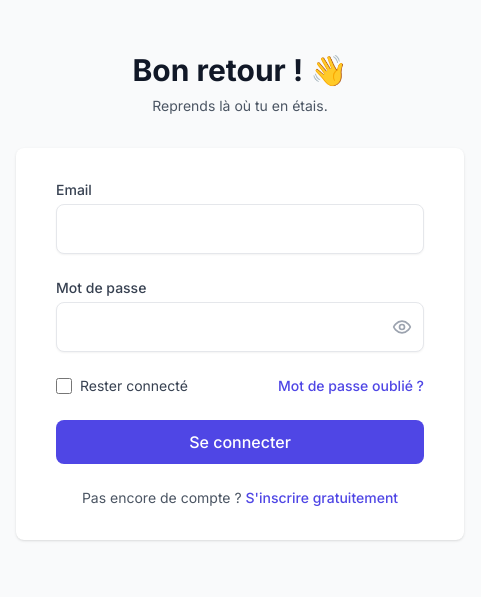
Scenario: LoginPage Integration › Login with invalid credentials › should display French error for invalid credentials
Type "test@example.com" into the field labelled "Email" at point(240, 229), box [56,204,424,254]
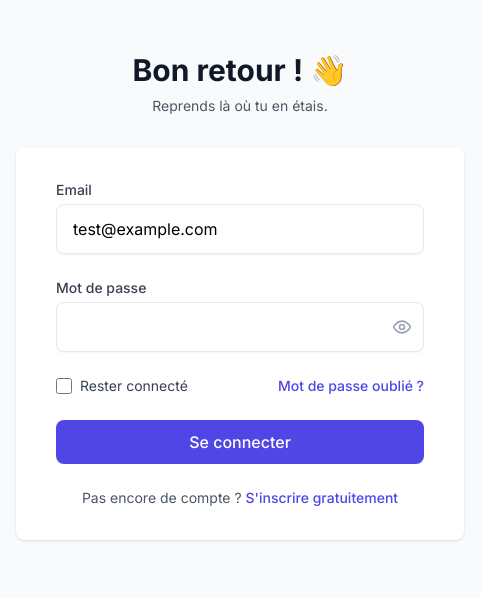
Type "wrongpassword" into the password field labelled "Mot de passe" at point(240, 327), box [56,302,424,352]
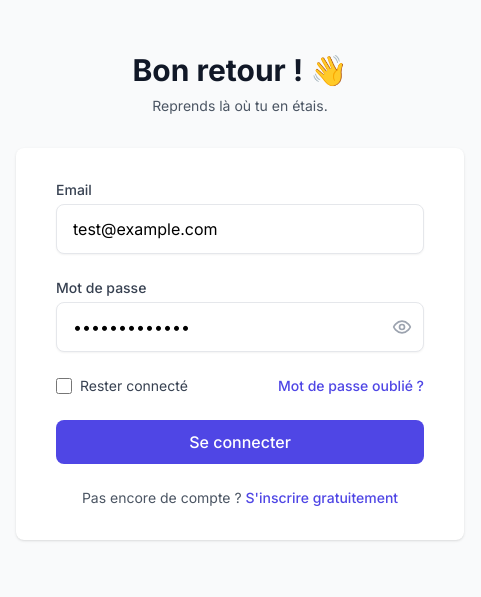
Click the button "Se connecter" at point(240, 442), box [56,420,424,464]
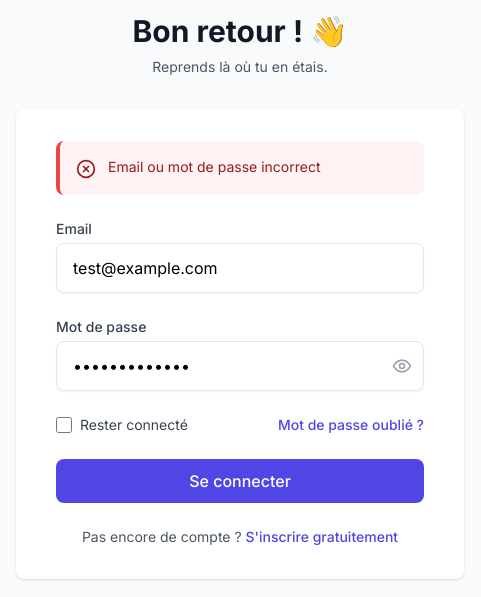
Check: the message reads "Email ou mot de passe incorrect", box [108,158,320,175]
